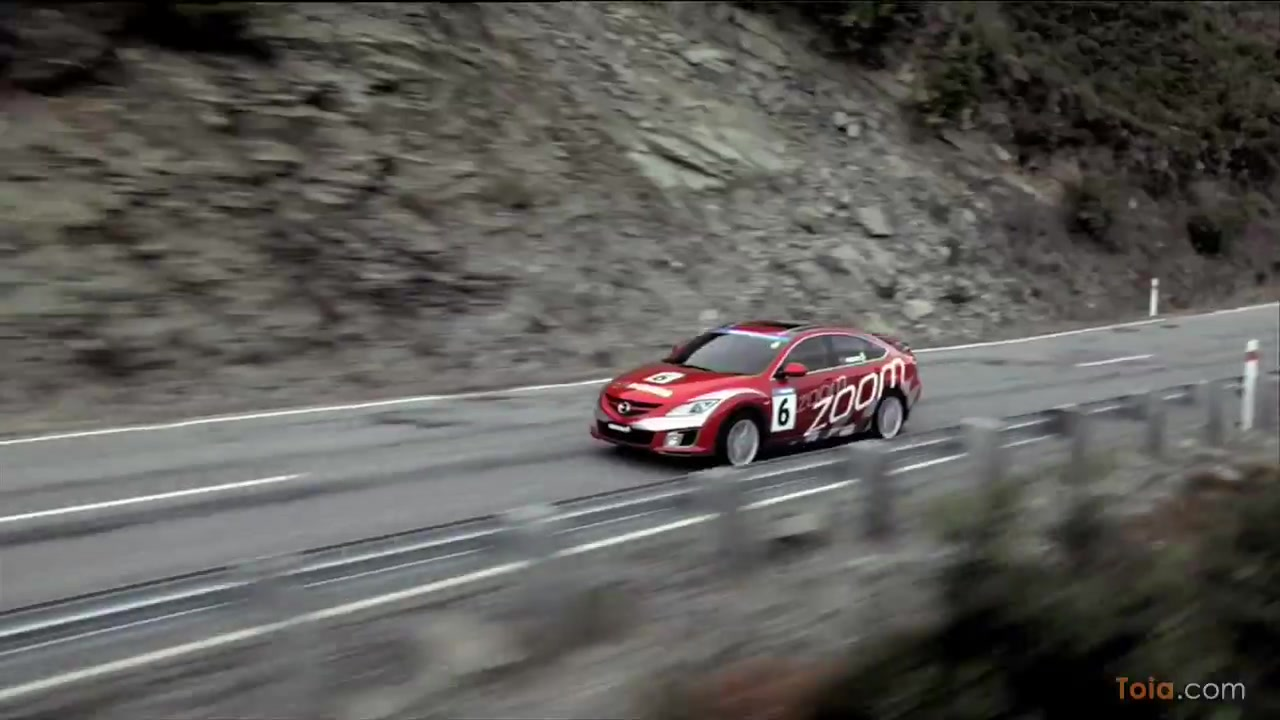car: (588, 316, 926, 471)
